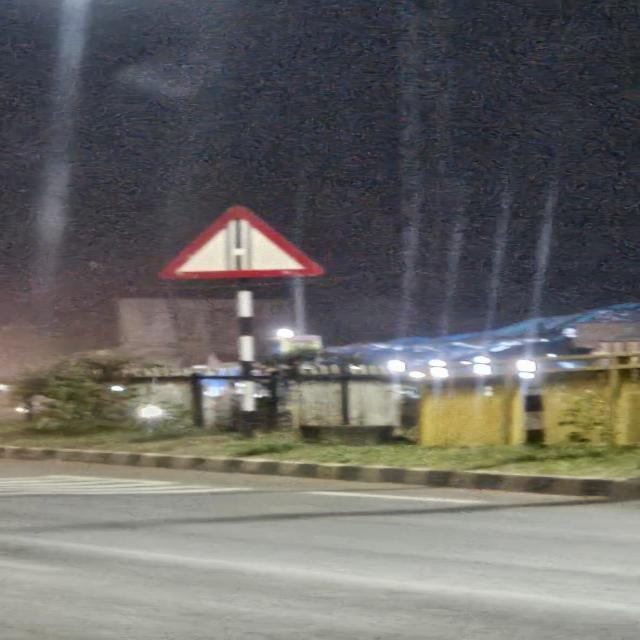gap in median: (152, 199, 329, 288)
